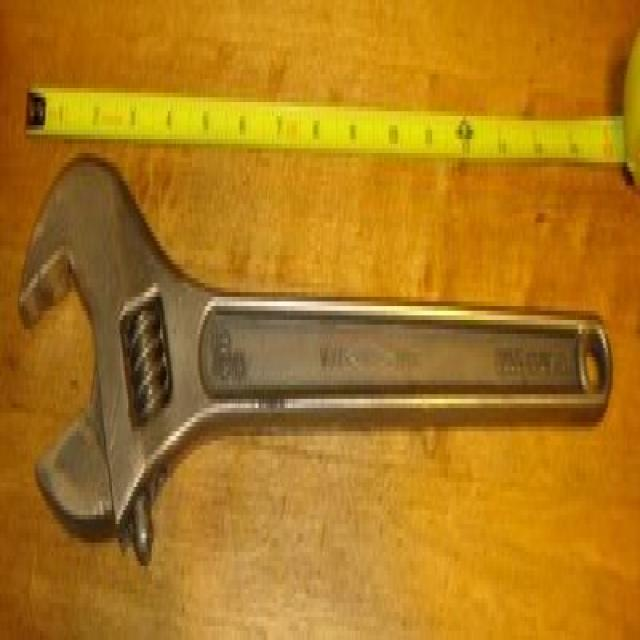wrench: (0, 127, 466, 599)
